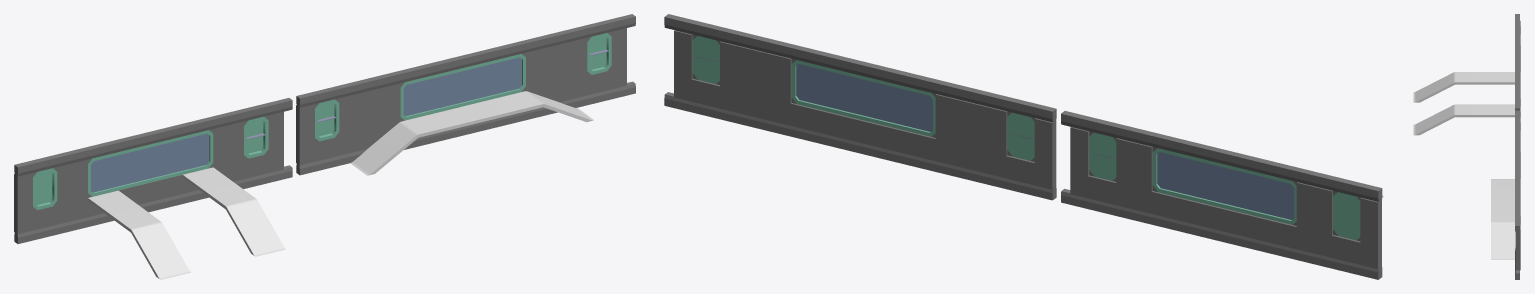
The model's file is YERLESIM_ALT.fbx.
3 views of the same model, side by side, from view 1: azimuth 30°, elevation 25°; view 2: azimuth 150°, elevation 25°; view 3: azimuth 270°, elevation 25° (orthographic). The views are drawn at different scales.
Visible parts, largest first — view 1: DUVAR138, Line029, DUVAR133, Box023, Box017, Line026, Line030, Line033, LM, Line034, LY2; view 2: DUVAR138, Line029, DUVAR133, Box023, Box017, LY2, LM; view 3: Line034, Line026, Line030, DUVAR138, Line033, DUVAR133, Line029.
Part boxes in pixels (left/top/right/bottom): DUVAR138: left=296, top=14, right=635, bottom=175; Line029: left=14, top=112, right=283, bottom=234; DUVAR133: left=14, top=98, right=292, bottom=243; Box023: left=400, top=52, right=525, bottom=121; Box017: left=88, top=129, right=213, bottom=197; Line026: left=183, top=167, right=285, bottom=256; Line030: left=88, top=190, right=190, bottom=279; Line033: left=350, top=106, right=480, bottom=175; LM: left=33, top=115, right=268, bottom=211; Line034: left=463, top=91, right=593, bottom=122; LY2: left=315, top=32, right=611, bottom=142; DUVAR138: left=664, top=14, right=1056, bottom=200; Line029: left=1070, top=127, right=1381, bottom=268; DUVAR133: left=1061, top=111, right=1382, bottom=279; Box023: left=791, top=59, right=935, bottom=137; Box017: left=1152, top=147, right=1296, bottom=225; LY2: left=692, top=34, right=1034, bottom=161; LM: left=1089, top=131, right=1360, bottom=241; Line034: left=1491, top=200, right=1515, bottom=259; Line026: left=1413, top=104, right=1514, bottom=135; Line030: left=1413, top=72, right=1514, bottom=102; DUVAR138: left=1515, top=110, right=1520, bottom=279; Line033: left=1491, top=179, right=1514, bottom=200; DUVAR133: left=1515, top=14, right=1519, bottom=110; Line029: left=1520, top=20, right=1520, bottom=117.
Size of the model in its own units: 2019 by 240 by 431.
